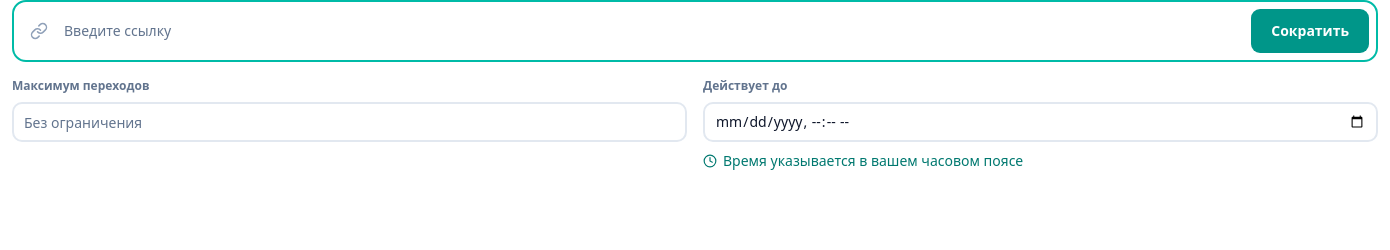
Test: CreateLinkForm › shows a readable message for an unknown server error
In the field named "Адрес ссылки": (646, 31) [48,5,1244,57], type "https://example.com"
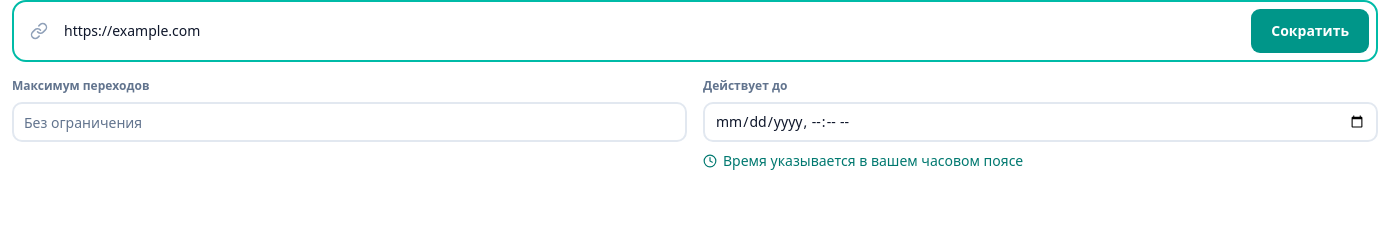
Click the button "Сократить": (1310, 31) [1250,8,1370,54]
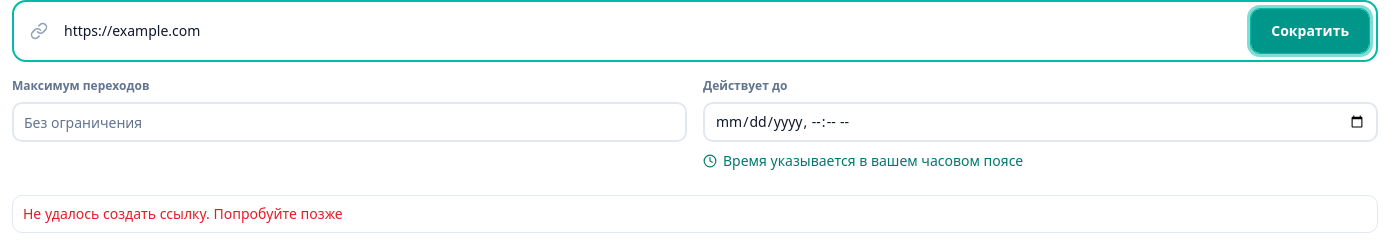
Expected: the text "Не удалось создать ссылку. Попробуйте позже" is shown, [23,204,343,223]
